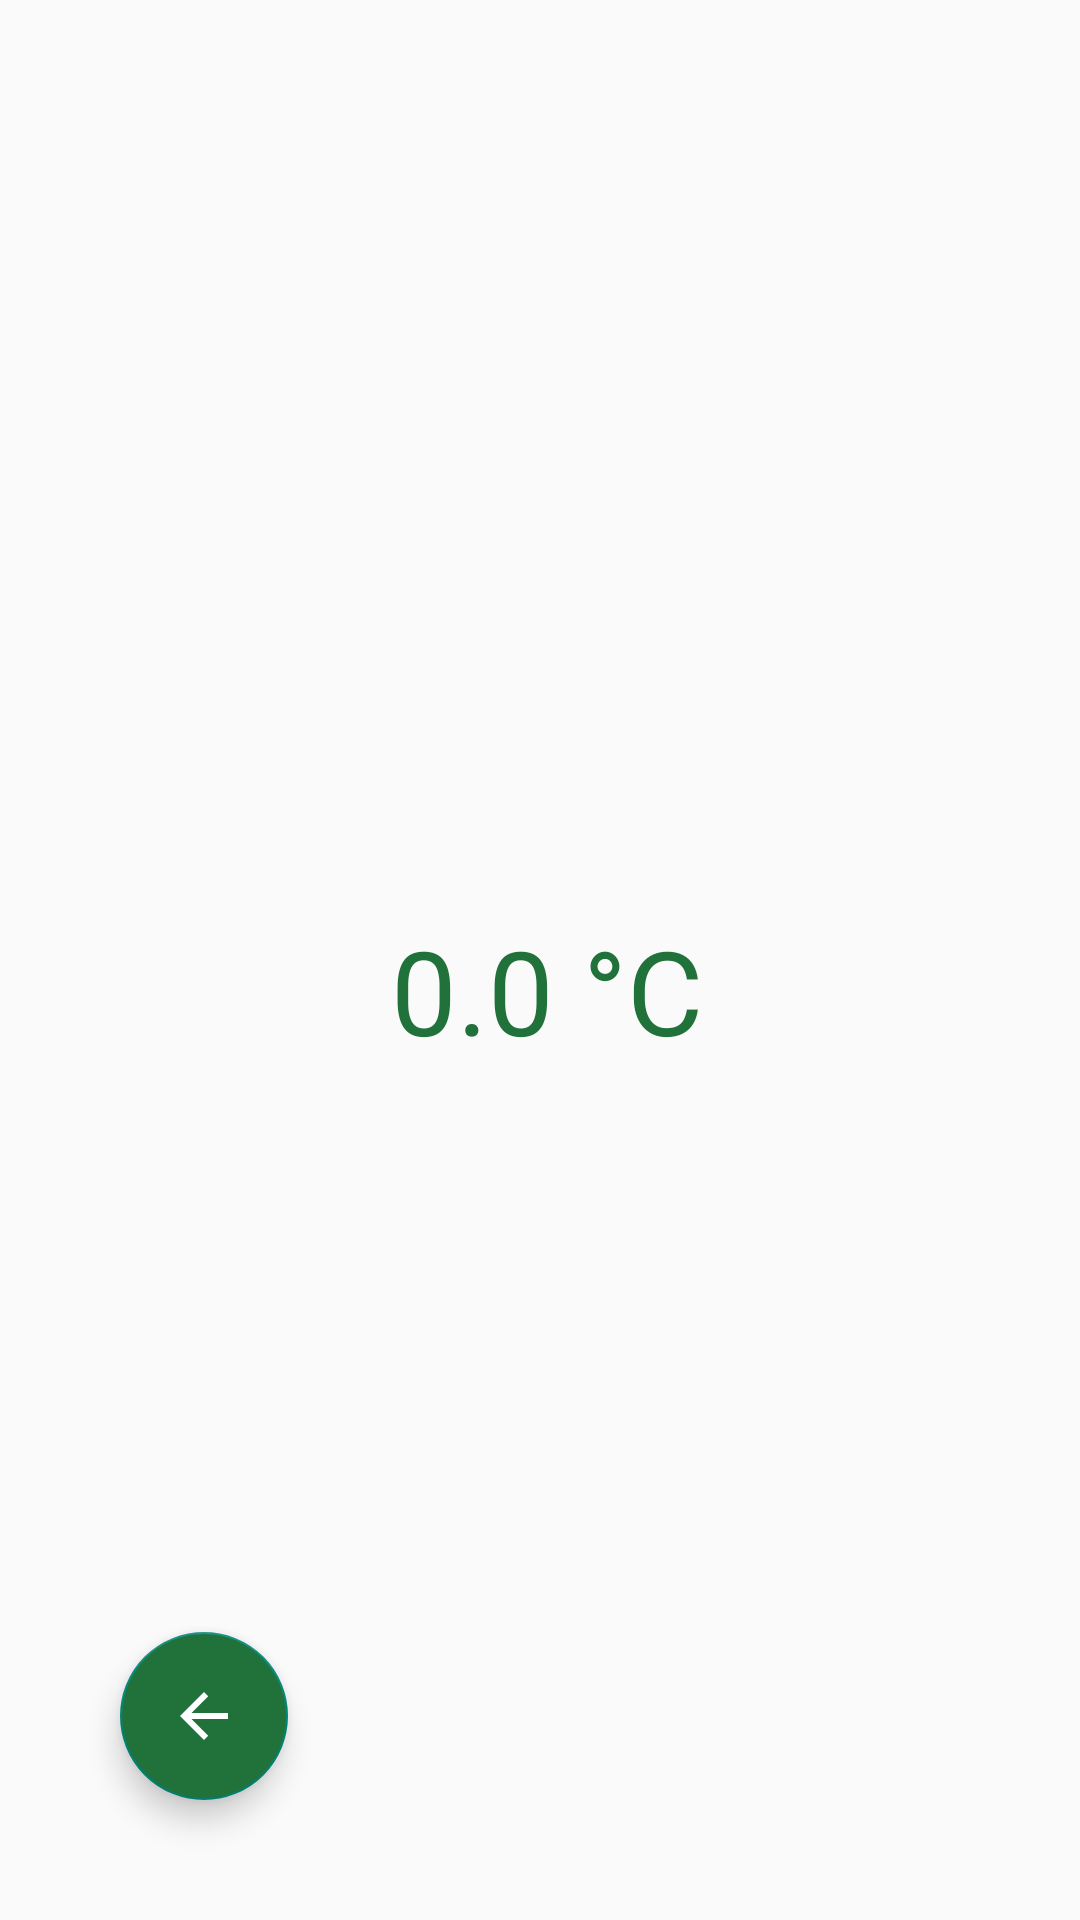

Icons on this 1080 x 1920 Android screen, each with the point to tap as (x=x, y=y):
arrow back: (x=204, y=1716)
